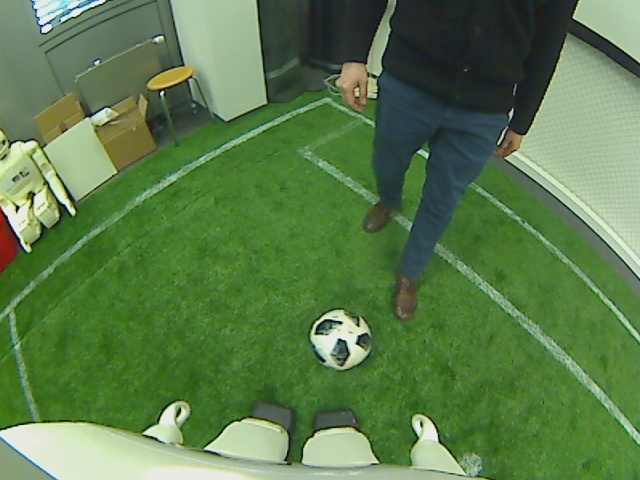ball: (308, 306, 373, 373)
